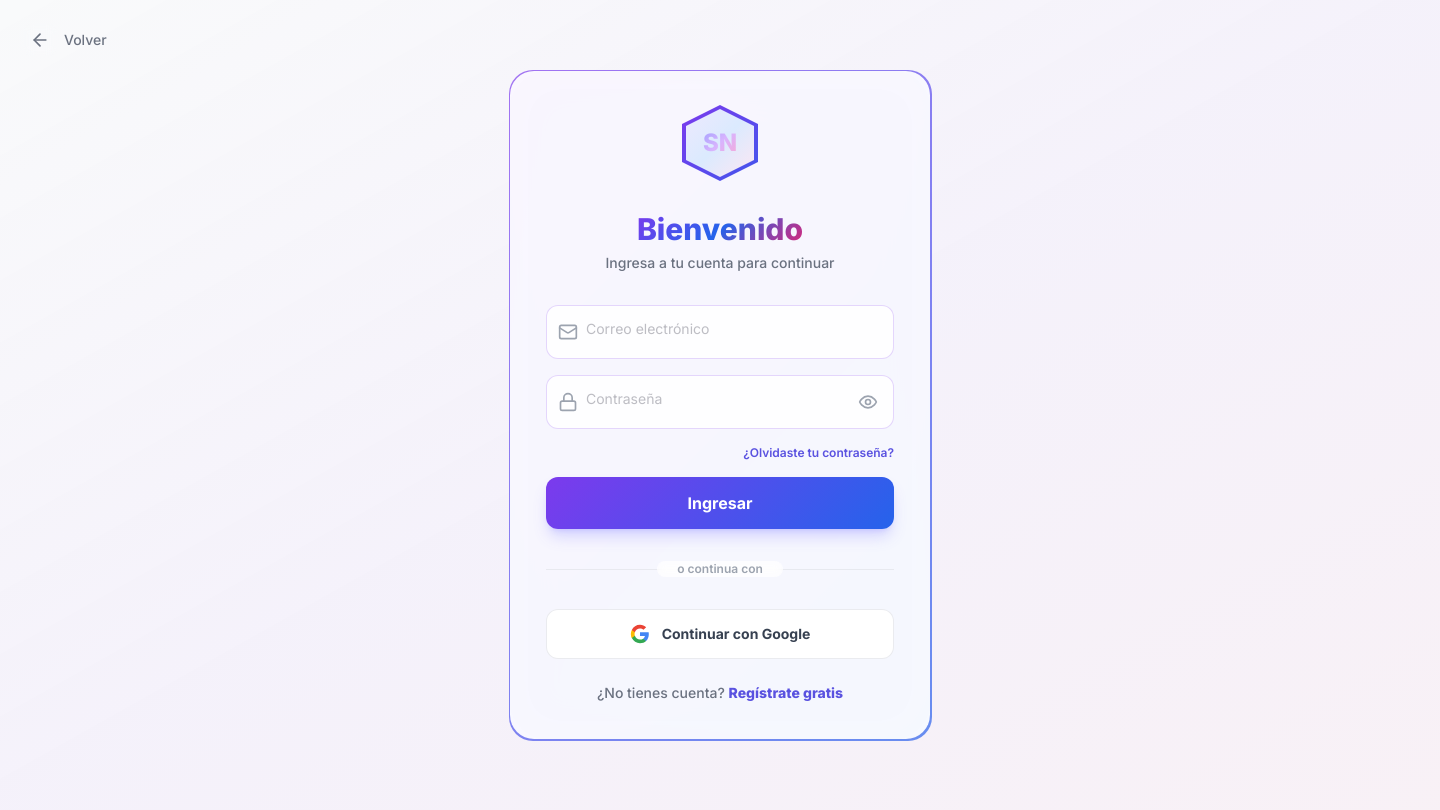
Test: Flujo de Integración: Autenticación (Login) › Debe mostrar errores de validación si los campos están vacíos
This screenshot has width=1440, height=810.
Click the button "Ingresar".
click(720, 503)  # box [546, 477, 894, 529]
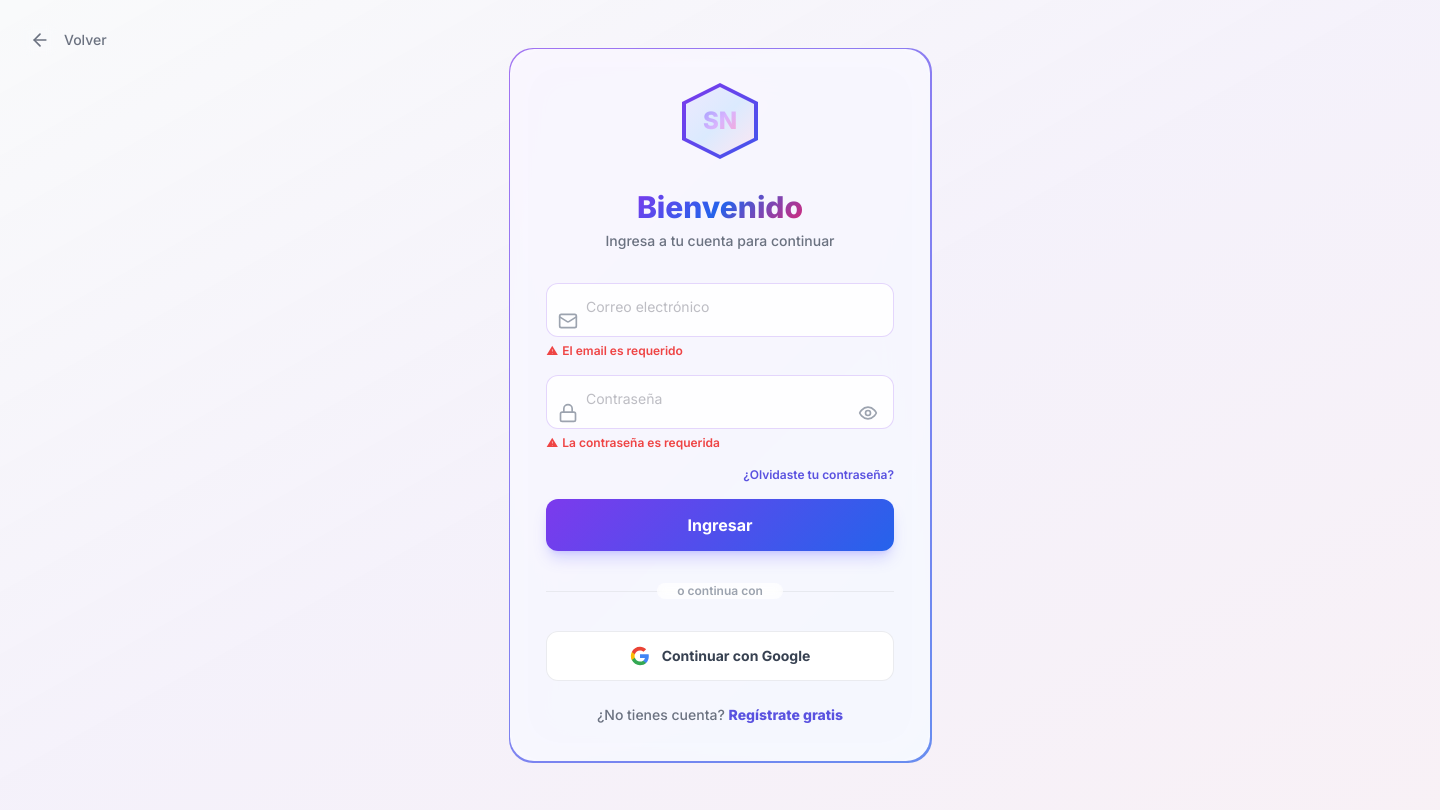
expect the text "⚠ El email es requerido" is shown: met, box [547, 343, 683, 358]
expect the text "⚠ La contraseña es requerida" is shown: met, box [547, 435, 720, 450]
